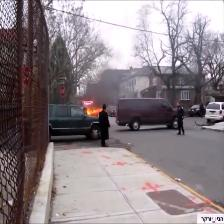fire: (82, 97, 105, 119)
